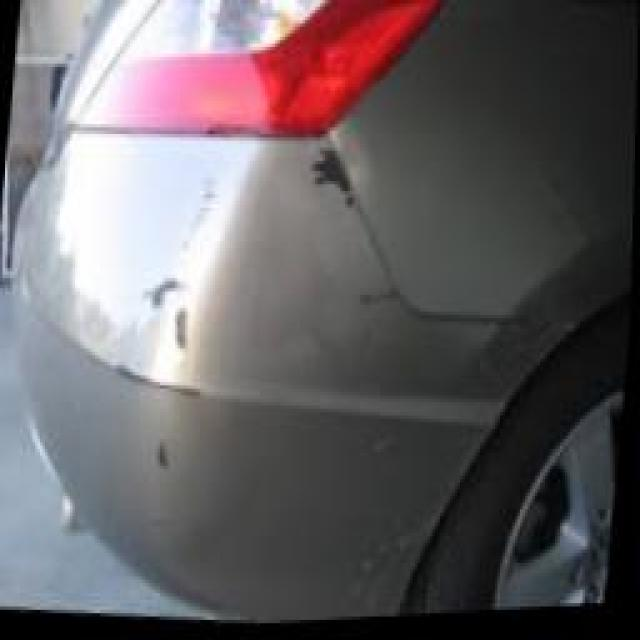Bumper: (78, 127, 568, 624)
